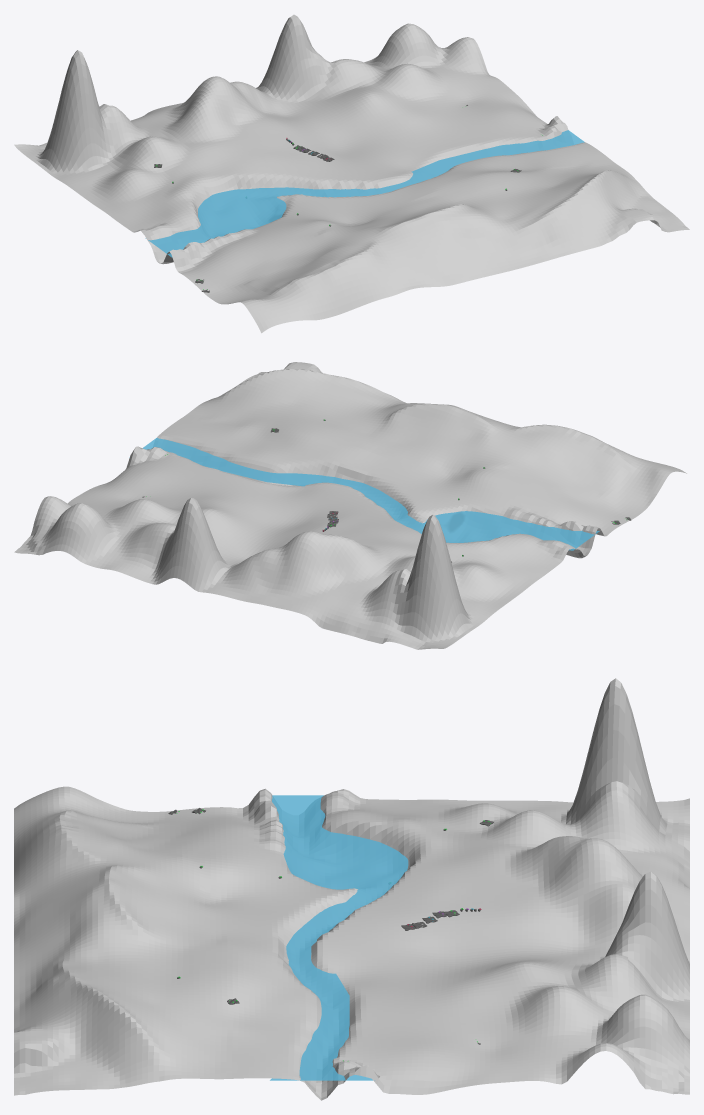
The model's file is map_every_ore.glb.
The picture shows the model from 3 angles, top to bottom: view 1: azimuth 30°, elevation 25°; view 2: azimuth 150°, elevation 25°; view 3: azimuth 270°, elevation 25°; orthographic projection. The views are drawn at different scales.
Visible parts, largest first — view 1: tearrain, water; view 2: tearrain, water; view 3: tearrain, water.
Part boxes in pixels (x1,y1,x2,y2): tearrain: (14,14,689,333); water: (145,130,584,257); tearrain: (14,362,686,649); water: (129,438,599,550); tearrain: (14,678,689,1100); water: (270,795,408,1080).
Bounding box in the file's own units: 501 × 135 × 500.
10 materials, 1 textured.
